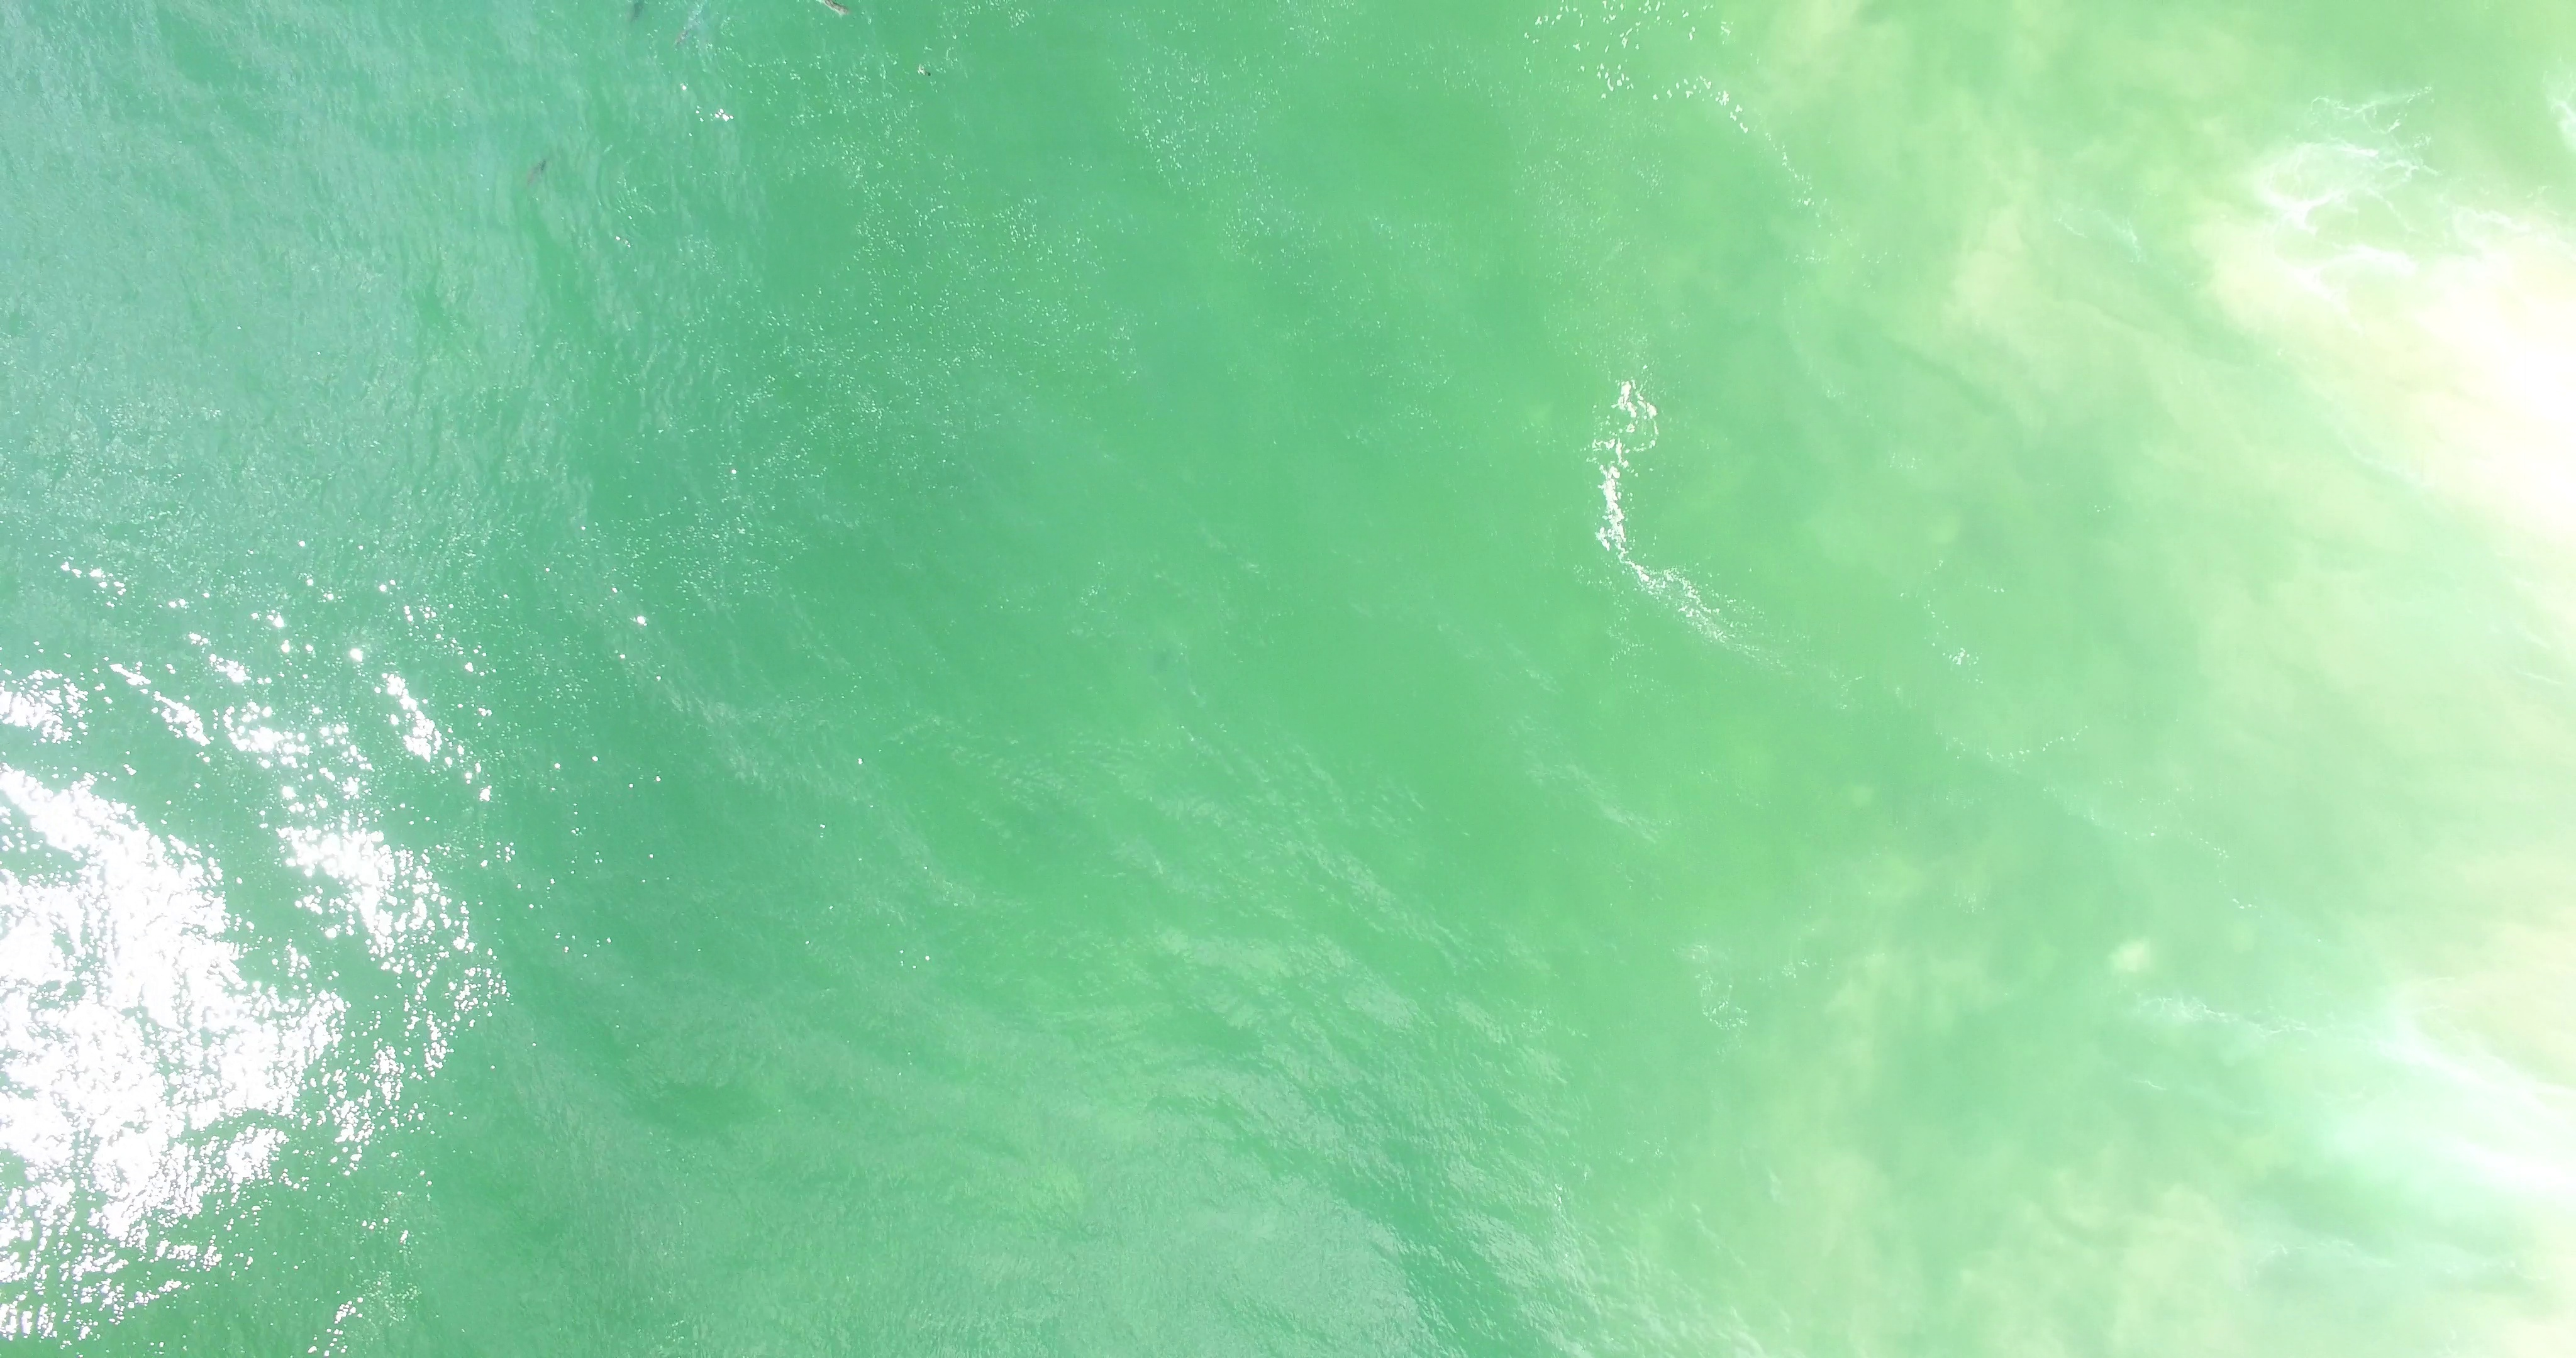dolphin: (671, 7, 709, 48), (523, 157, 557, 189)
